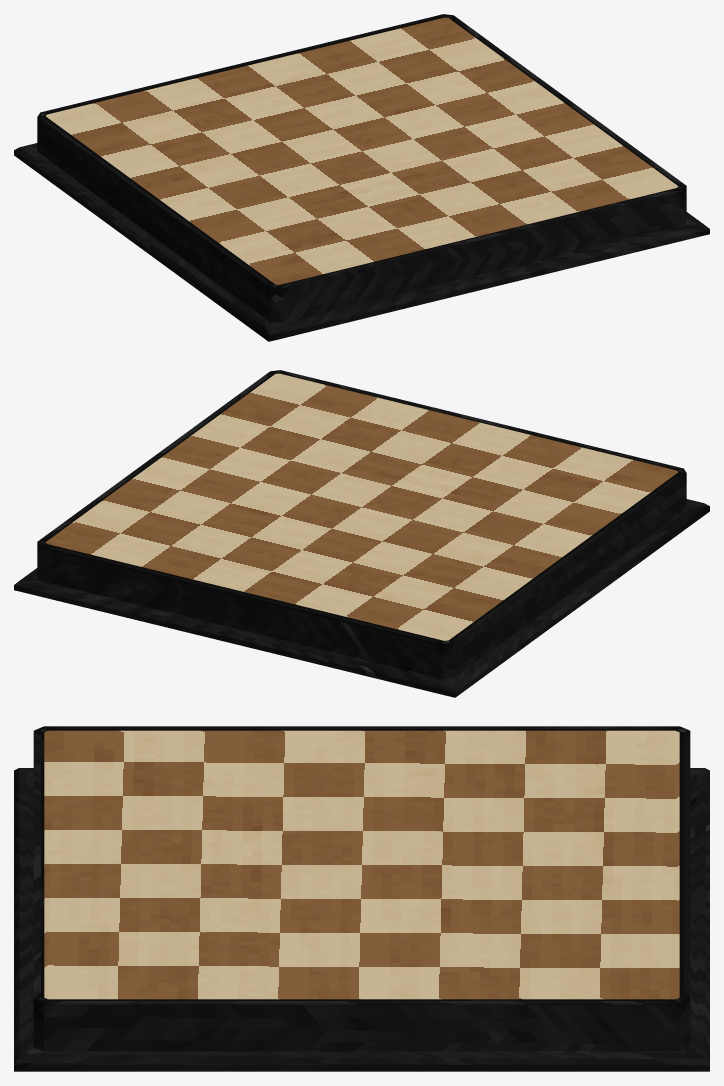
Rendered from checkboard.glb.
3 views of the same model, one above another, from view 1: azimuth 30°, elevation 25°; view 2: azimuth 150°, elevation 25°; view 3: azimuth 270°, elevation 25° (orthographic). The views are drawn at different scales.
Parts seen in each view (by area): view 1: Cube; view 2: Cube; view 3: Cube.
Part boxes in pixels (x1,y1,x2,y2): Cube: (14, 14, 709, 341); Cube: (14, 370, 709, 697); Cube: (14, 726, 709, 1071).
Size of the model in its own units: 0.53 by 0.05 by 0.53.
Materials: 1 (1 with a texture image).
